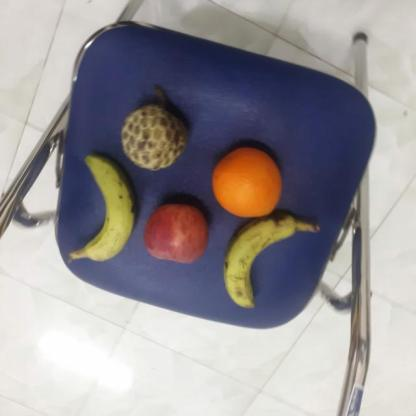annona: (117, 103, 191, 170)
apple: (143, 202, 211, 266)
banana: (218, 214, 304, 312), (78, 153, 137, 266)
orange: (212, 140, 286, 218)
